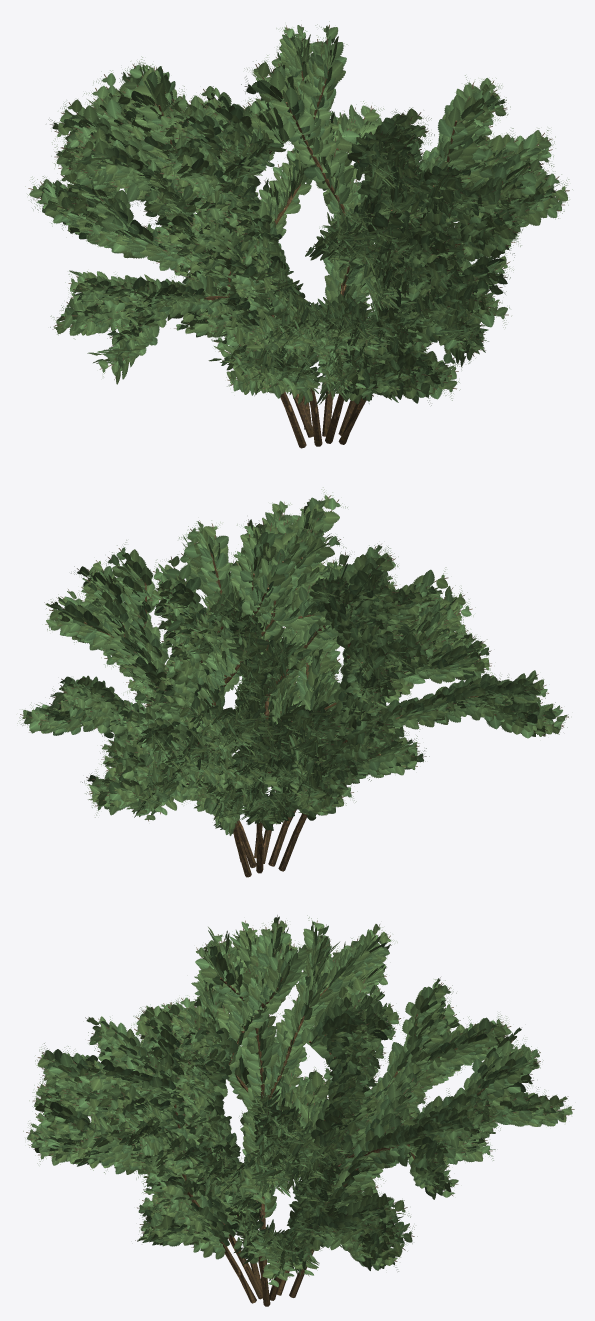
Rendered from alder_thicket_v02.fbx.
3 views of the same model, one above another, from view 1: azimuth 30°, elevation 25°; view 2: azimuth 150°, elevation 25°; view 3: azimuth 270°, elevation 25° (orthographic). The views are drawn at different scales.
Visible parts, largest first — view 1: alder_thicket_v02; view 2: alder_thicket_v02; view 3: alder_thicket_v02.
Boxes of the visible parts, x1,y1,x2,y2 form: alder_thicket_v02: [25, 21, 572, 448]; alder_thicket_v02: [17, 487, 568, 877]; alder_thicket_v02: [23, 915, 574, 1306].
Size of the model in its own units: 643 by 440 by 669.
2 materials, 2 textured.
